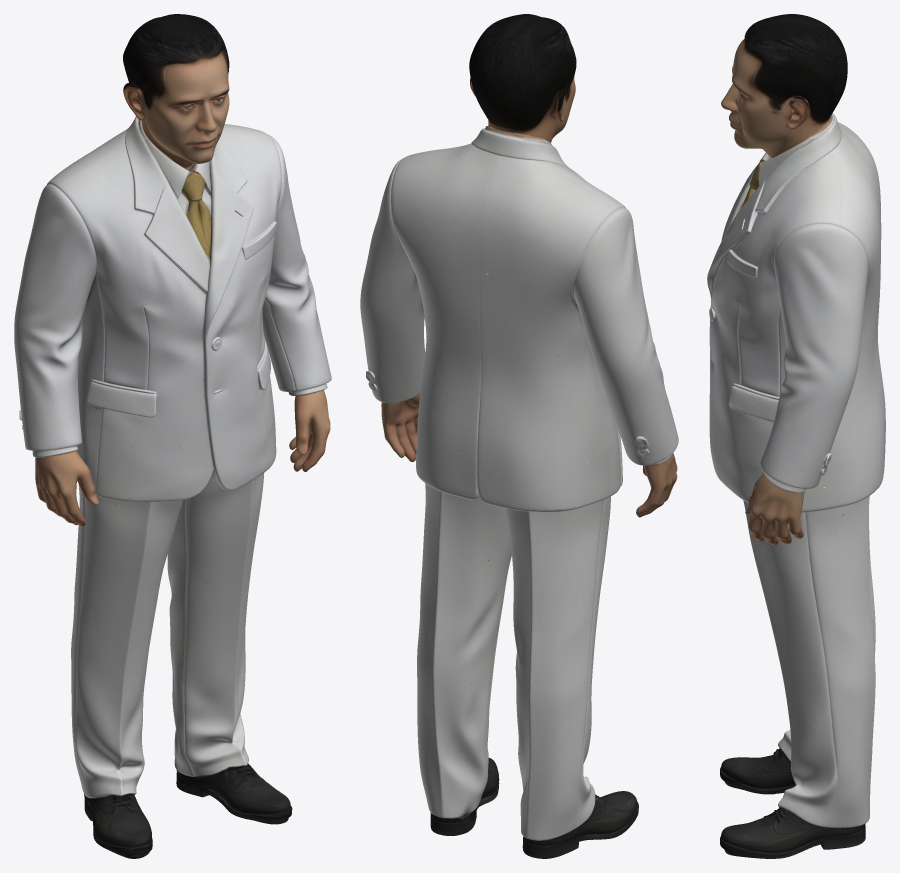
Rendered from Diosdado(Male).glb.
The picture shows the model from 3 angles, left to right: view 1: azimuth 30°, elevation 25°; view 2: azimuth 150°, elevation 25°; view 3: azimuth 270°, elevation 25°; orthographic projection.
Size of the model in its own units: 0.4569 by 1.16 by 0.2369.
1 material, 1 textured.
